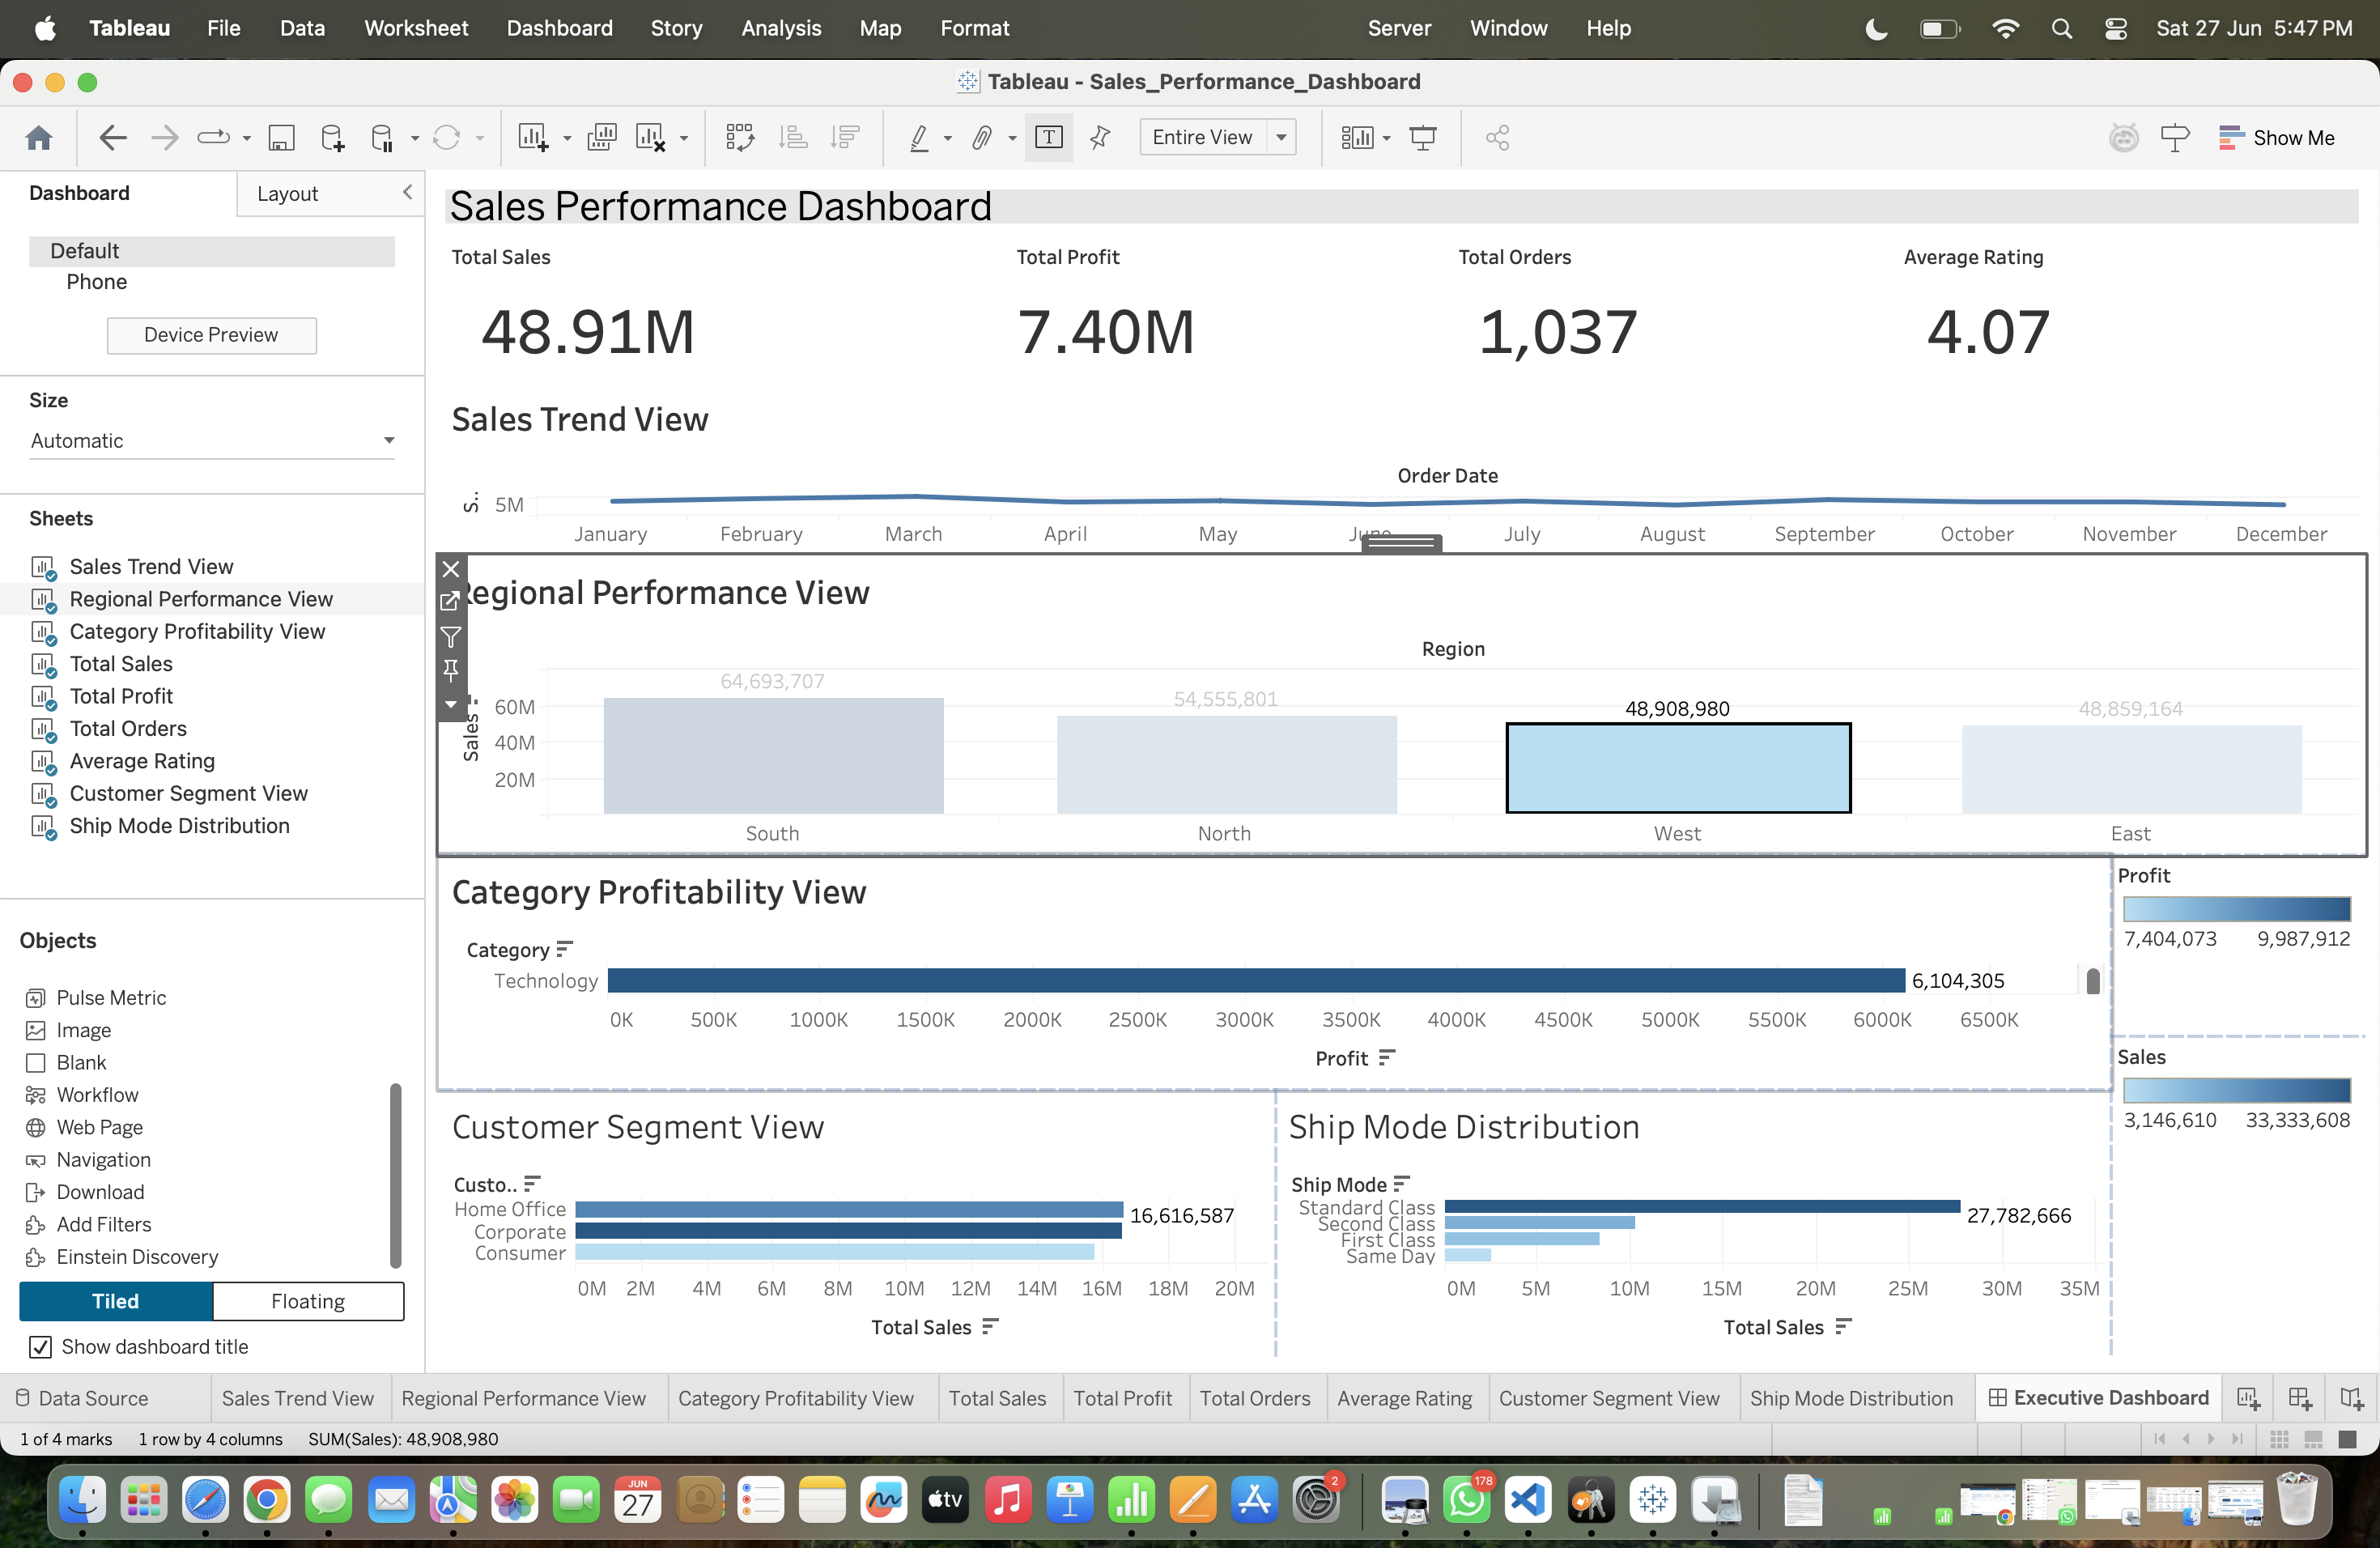

What the dashboard file says about the page in this screenshot:
{"tool":"tableau","page":{"name":"Executive Dashboard","canvas":[1000,1000],"units":"permille","ordinal":0},"visuals":[{"type":"title","box":[6.6,10.8,986.7,39.7]},{"type":"worksheet","title":"Total Sales","mark":"Automatic","box":[6.6,50.5,289.2,126.1]},{"type":"worksheet","title":"Total Profit","mark":"Automatic","box":[295.8,50.5,226.6,126.1]},{"type":"worksheet","title":"Total Orders","mark":"Automatic","box":[522.4,50.5,228.3,126.1]},{"type":"worksheet","title":"Average Rating","mark":"Automatic","box":[750.6,50.5,242.7,126.1]},{"type":"worksheet","title":"Sales Trend View","mark":"Automatic","rows":["sales"],"cols":["order_date"],"box":[6.6,176.6,986.7,144.2]},{"type":"worksheet","title":"Regional Performance View","mark":"Automatic","rows":["sales"],"cols":["region"],"box":[6.6,320.8,986.7,249.3]},{"type":"worksheet","title":"Category Profitability View","mark":"Automatic","rows":["category"],"cols":["profit"],"box":[6.6,570.1,856.6,195.4]},{"type":"legend","title":"Regional Performance View","param":"[federated.1mlspm11wj2geh1cr88xj096djqn].[sum:profit:qk]","box":[863.2,570.1,130.2,150.9]},{"type":"legend","title":"Category Profitability View","param":"[federated.1mlspm11wj2geh1cr88xj096djqn].[sum:sales:qk]","box":[863.2,721,130.2,268.2]},{"type":"worksheet","title":"Customer Segment View","mark":"Automatic","rows":["customer_segment"],"cols":["sales"],"box":[6.6,765.5,428.3,223.7]},{"type":"worksheet","title":"Ship Mode Distribution","mark":"Automatic","rows":["ship_mode"],"cols":["sales"],"box":[434.9,765.5,428.3,223.7]}]}

Visuals, with their boxes on the dashboard's canvas, which has no fixed pixel size, in thousandths of its width and height (x1, y1, x2, y2). These are canvas units, not pixel positions in the 2380x1548 screenshot, which may show the page scaled, cropped or inside an application window:
title: detection(7, 11, 993, 50)
"Total Sales" worksheet: detection(7, 50, 296, 177)
"Total Profit" worksheet: detection(296, 50, 522, 177)
"Total Orders" worksheet: detection(522, 50, 751, 177)
"Average Rating" worksheet: detection(751, 50, 993, 177)
"Sales Trend View" worksheet: detection(7, 177, 993, 321)
"Regional Performance View" worksheet: detection(7, 321, 993, 570)
"Category Profitability View" worksheet: detection(7, 570, 863, 766)
"Regional Performance View" legend: detection(863, 570, 993, 721)
"Category Profitability View" legend: detection(863, 721, 993, 989)
"Customer Segment View" worksheet: detection(7, 766, 435, 989)
"Ship Mode Distribution" worksheet: detection(435, 766, 863, 989)
